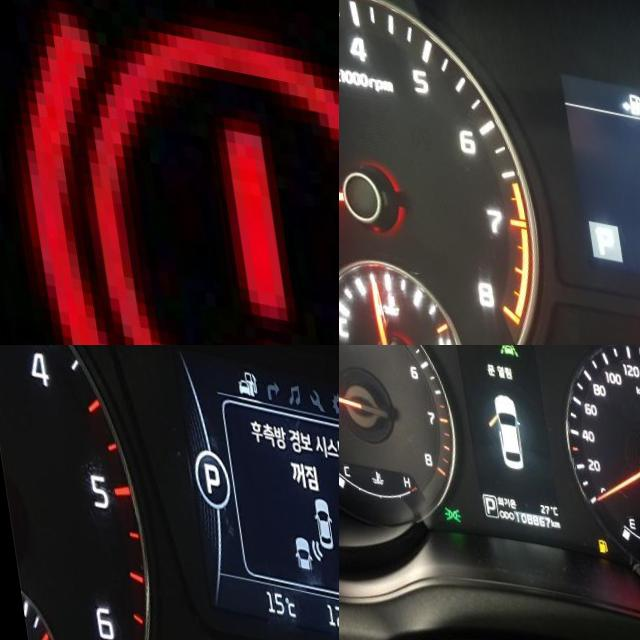Low fuel level: (583, 520, 595, 537)
SideLamp: (430, 494, 448, 512)
